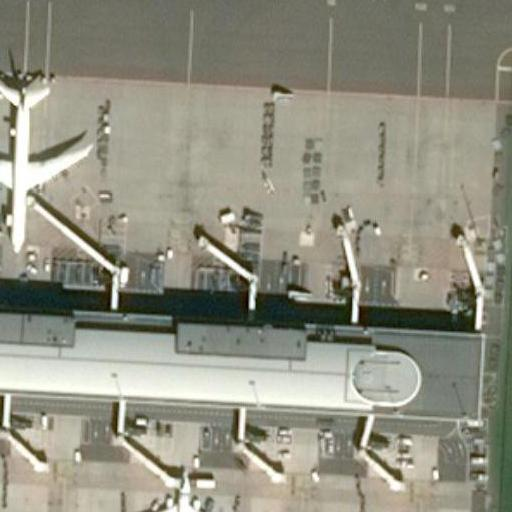Aircraft: (0, 57, 92, 250), (126, 456, 232, 512)
